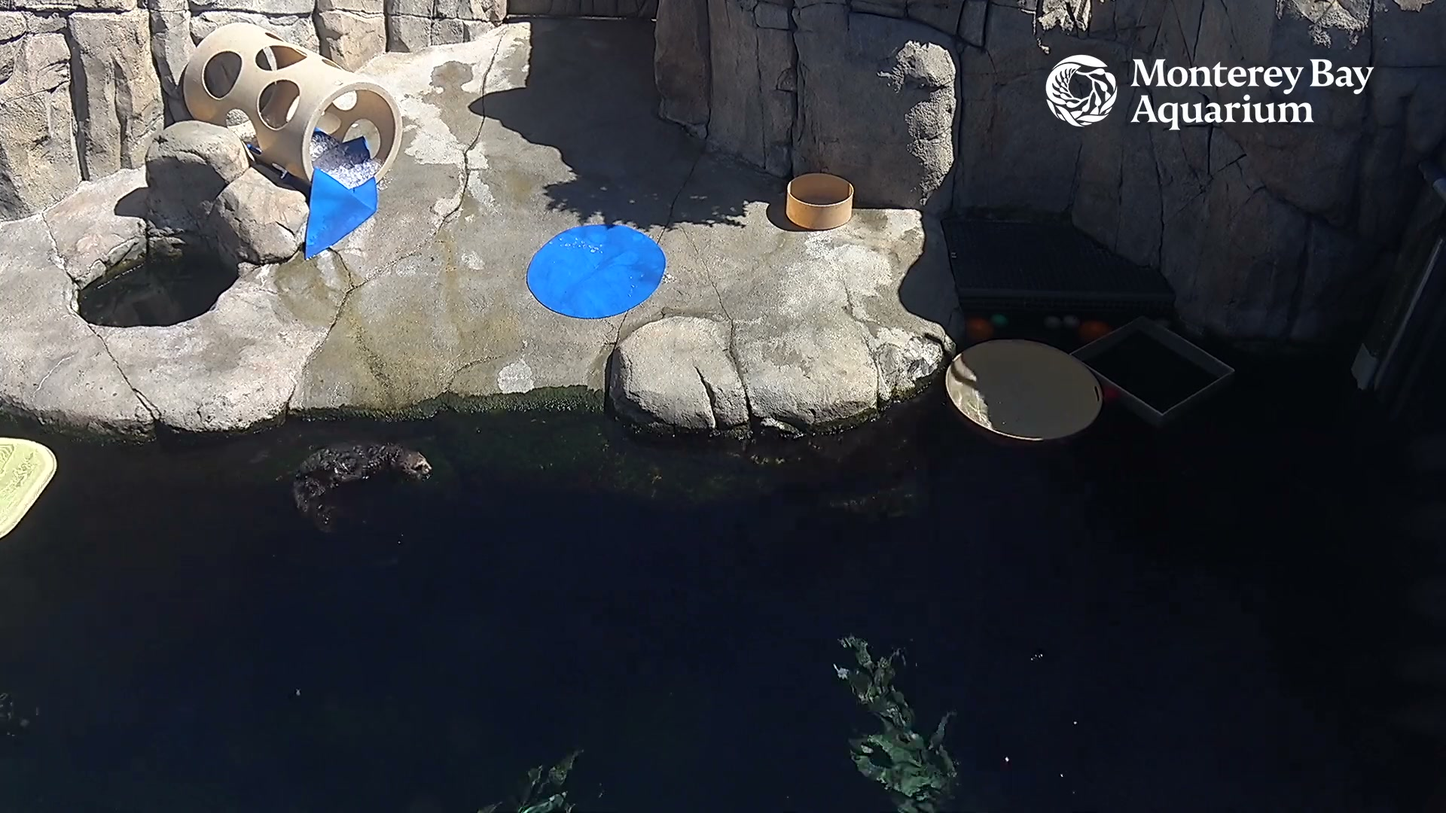Southern Sea Otter: (261, 383, 452, 536)
